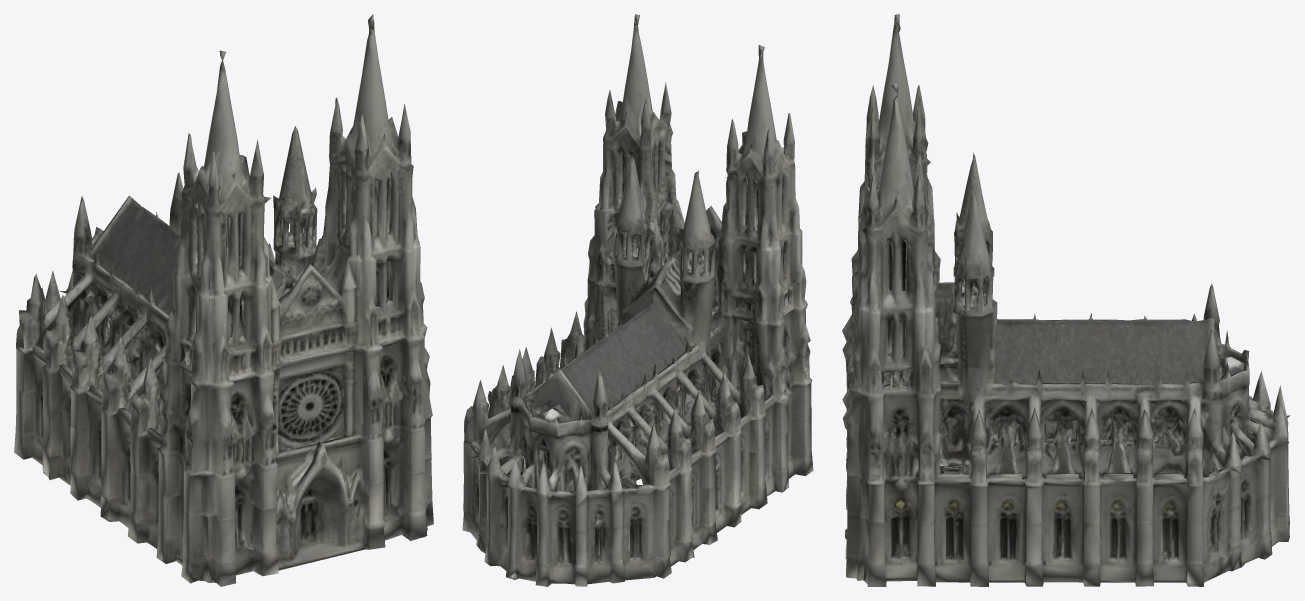
File: Gothic_Cathedral.glb
3 renders of one model, left to right at view 1: azimuth 30°, elevation 25°; view 2: azimuth 150°, elevation 25°; view 3: azimuth 270°, elevation 25°, orthographic. The views are drawn at different scales.
Visible parts, largest first — view 1: Gothic_Cathedral; view 2: Gothic_Cathedral; view 3: Gothic_Cathedral.
Part boxes in pixels (left/top/right/bottom): Gothic_Cathedral: left=14, top=14, right=433, bottom=586; Gothic_Cathedral: left=462, top=14, right=813, bottom=586; Gothic_Cathedral: left=842, top=14, right=1290, bottom=586.
Bounding box in the file's own units: 0.9916 × 1.99 × 1.67.
1 material, 1 textured.
